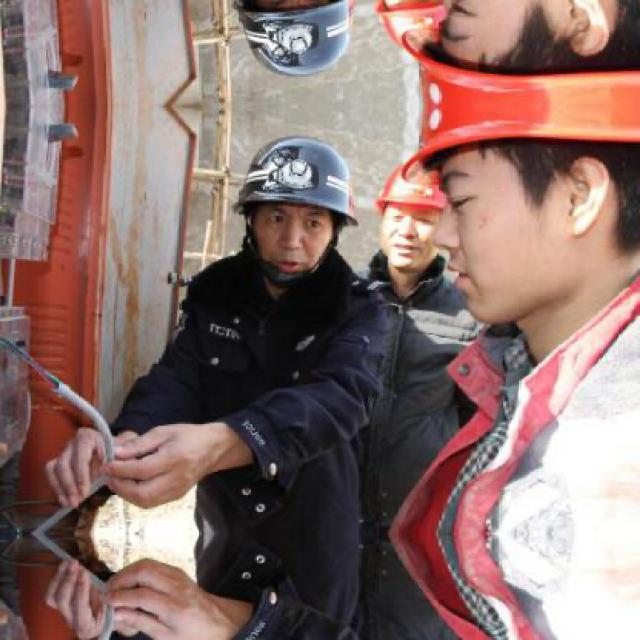helmet: (377, 108, 637, 327), (377, 0, 639, 106), (228, 129, 364, 287), (228, 0, 366, 85), (372, 162, 454, 267), (373, 0, 456, 52)
